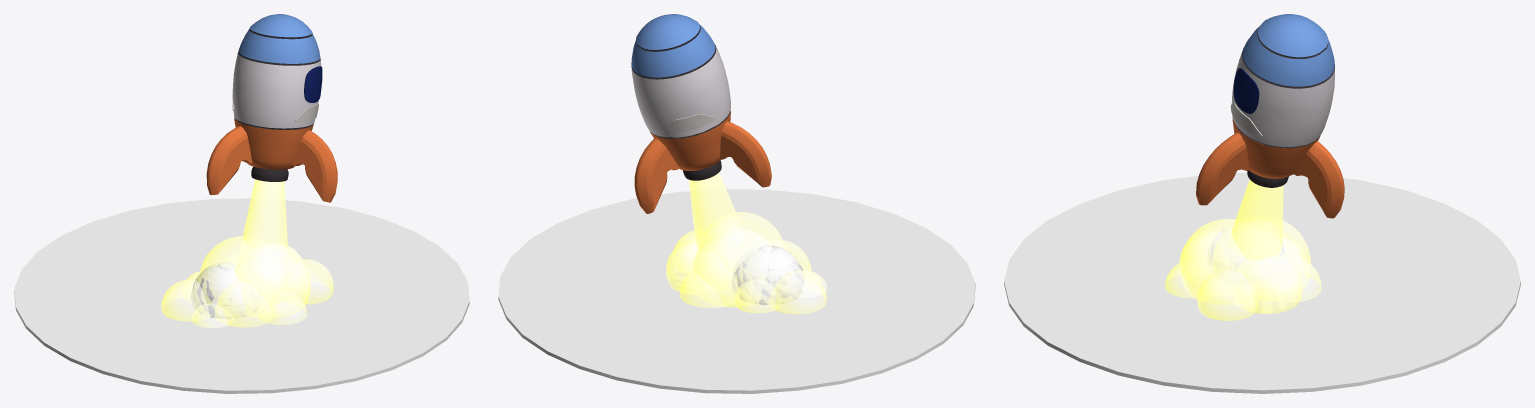
The model's file is rocket-transformed.glb.
The picture shows the model from 3 angles, left to right: view 1: azimuth 30°, elevation 25°; view 2: azimuth 150°, elevation 25°; view 3: azimuth 270°, elevation 25°; orthographic projection. The views are drawn at different scales.
Visible parts, largest first — view 1: Object_19, Object_4, Object_17, Object_11; view 2: Object_19, Object_4, Object_17; view 3: Object_19, Object_4, Object_17, Object_11.
Boxes of the visible parts, x1,y1,x2,y2 form: Object_19: [14, 198, 469, 393]; Object_4: [206, 14, 337, 202]; Object_17: [161, 179, 333, 328]; Object_11: [304, 66, 322, 102]; Object_19: [498, 189, 975, 393]; Object_4: [631, 14, 771, 213]; Object_17: [666, 172, 827, 314]; Object_19: [1004, 172, 1520, 393]; Object_4: [1196, 14, 1344, 218]; Object_17: [1165, 179, 1321, 320]; Object_11: [1233, 68, 1259, 113].
Bounding box in the file's own units: 9.65 × 6.53 × 9.65.
Materials: 4 (4 with a texture image).
